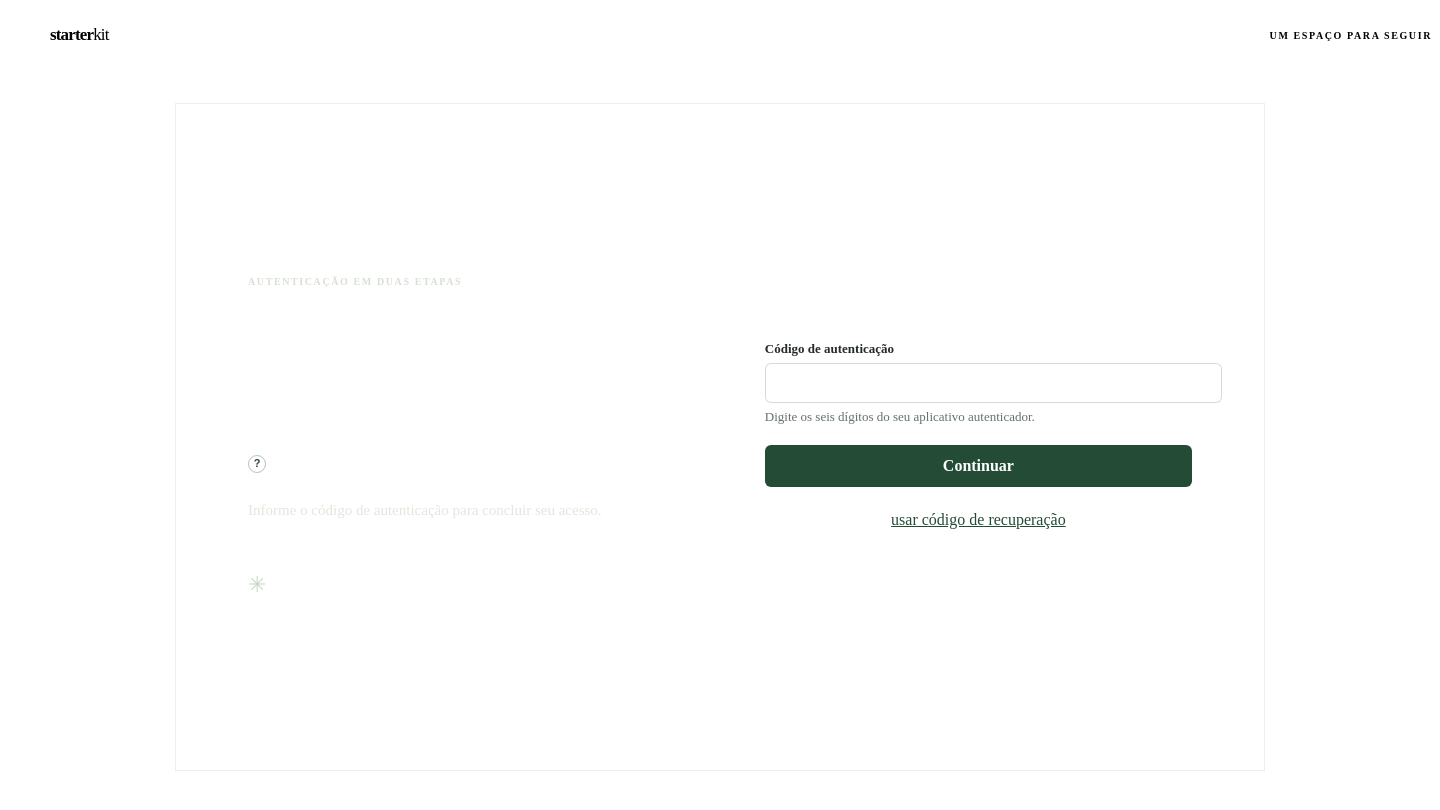
MfaChallengePage.vue › shows the API field error for an invalid code
In the field with id "mfa-code": (993, 382) [765, 362, 1222, 402], type "000000"
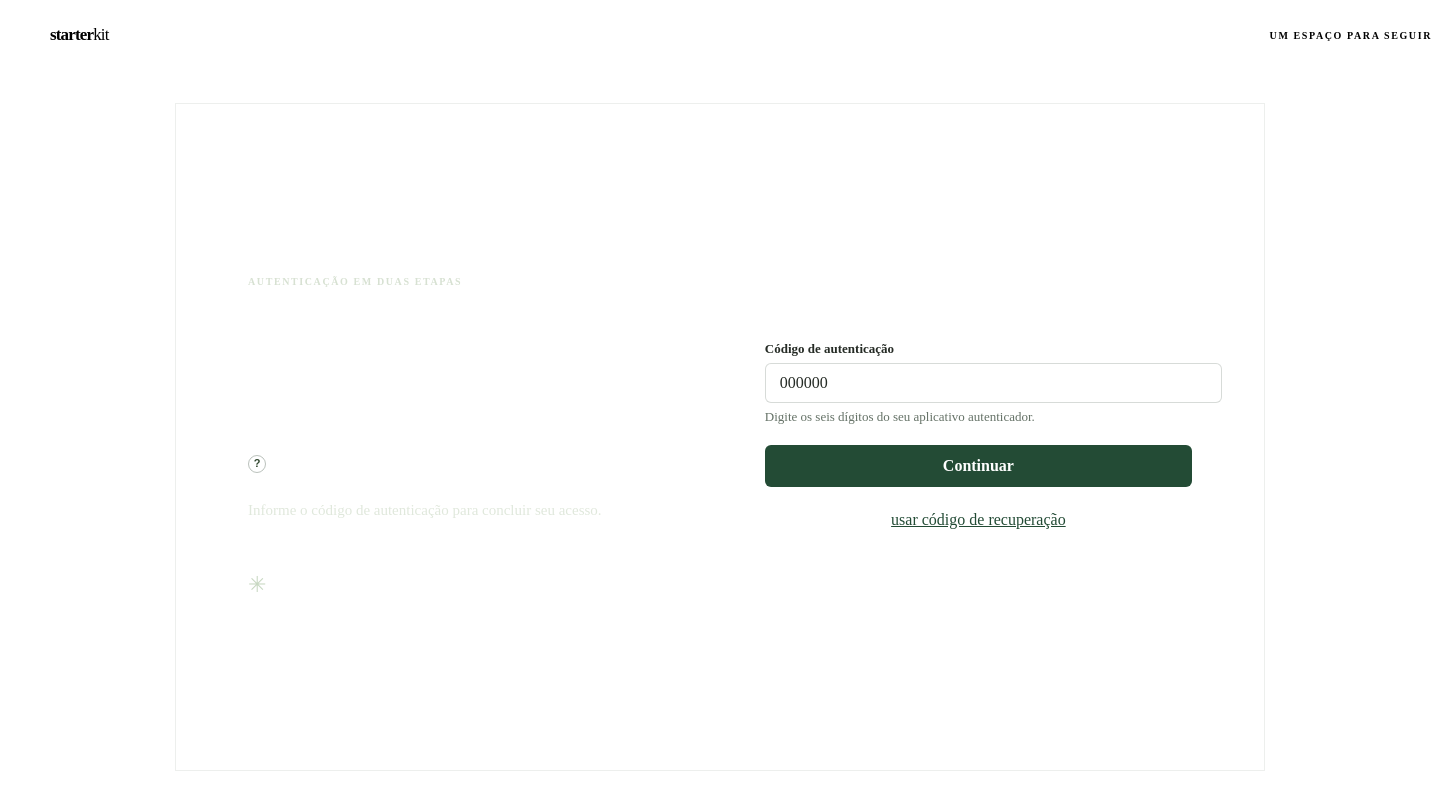
Submit the form, box [765, 340, 1192, 532]
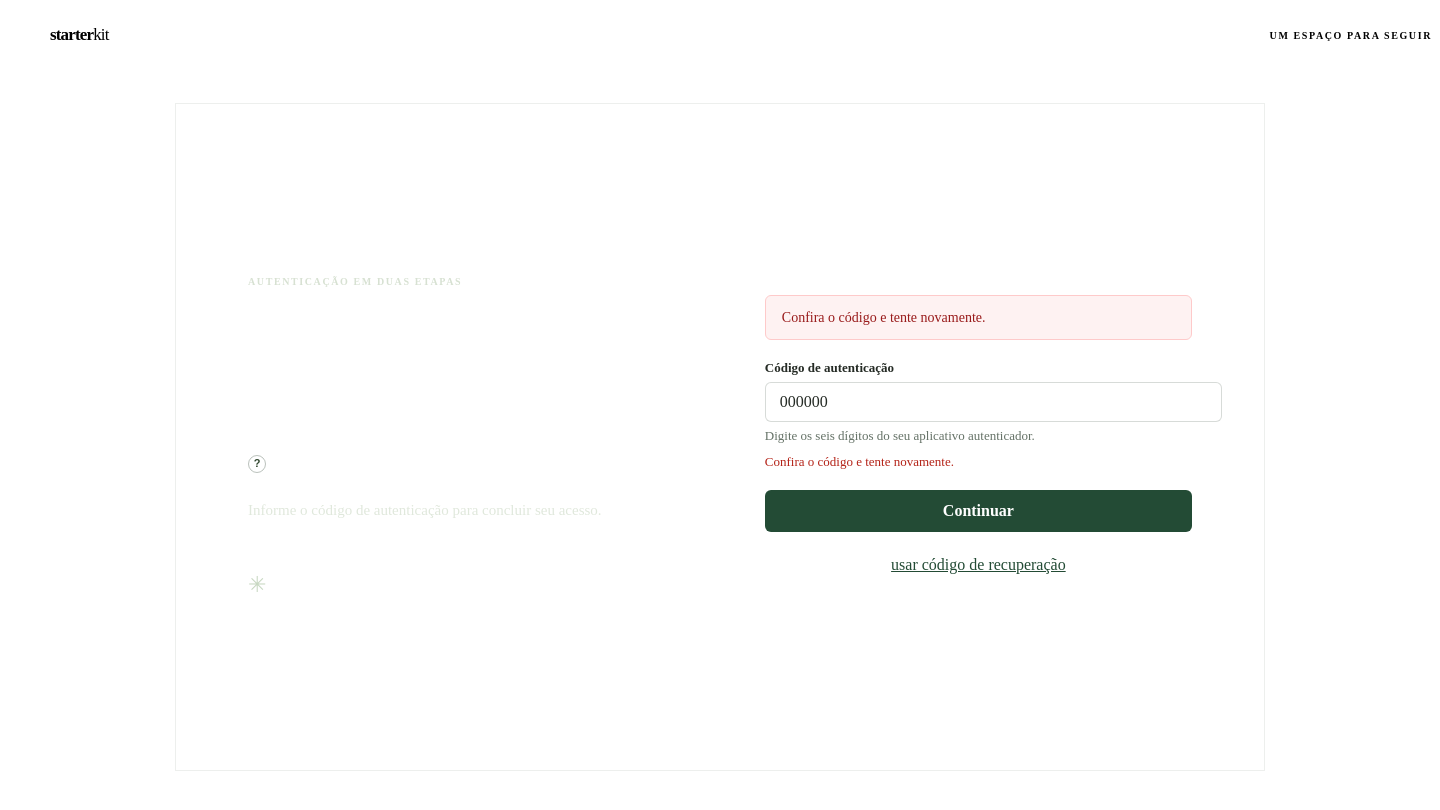
expect the text "Confira o código e tente novamente." is shown: met, box [765, 295, 1192, 340]
